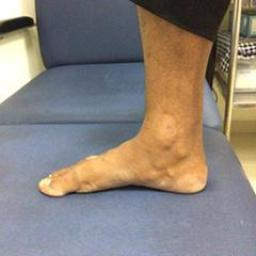Medial View -Right Foot-: (33, 101, 223, 207)
